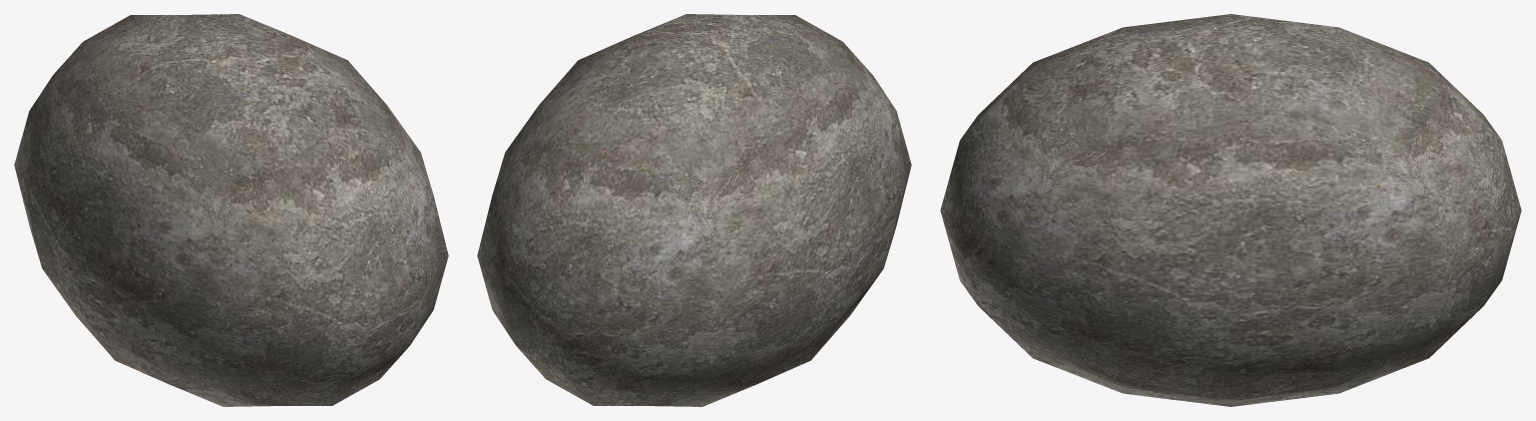
Rendered from stone_06.fbx.
3 renders of one model, left to right at view 1: azimuth 30°, elevation 25°; view 2: azimuth 150°, elevation 25°; view 3: azimuth 270°, elevation 25°, orthographic. The views are drawn at different scales.
Visible parts, largest first — view 1: pCube6; view 2: pCube6; view 3: pCube6.
Part boxes in pixels (x1,y1,x2,y2): pCube6: (14, 14, 448, 406); pCube6: (477, 14, 911, 406); pCube6: (940, 14, 1521, 406).
Size of the model in its own units: 1.2 by 1.2 by 1.79.
